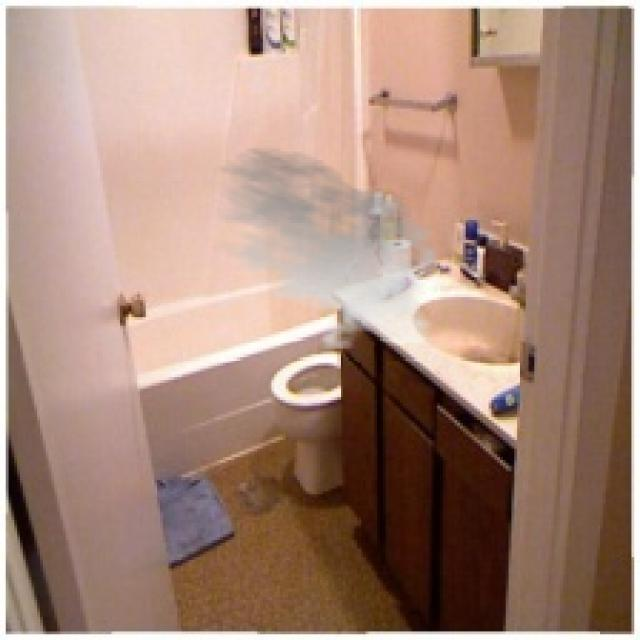smoke: (197, 146, 449, 351)
